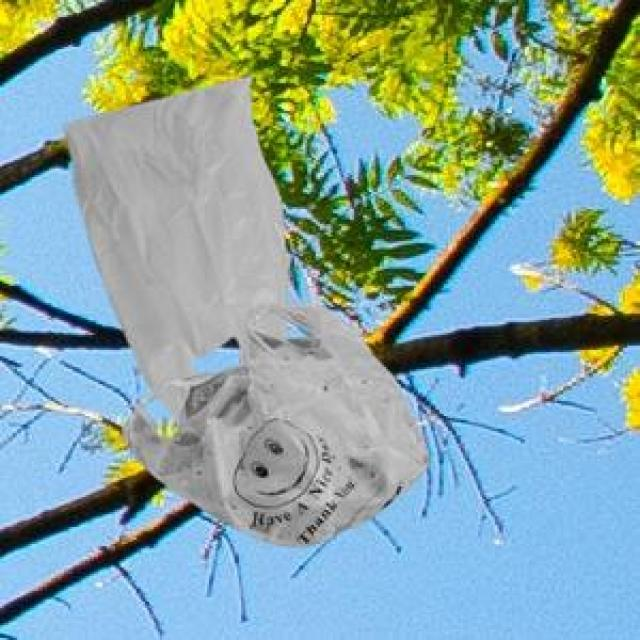plastic: (38, 72, 456, 555)
